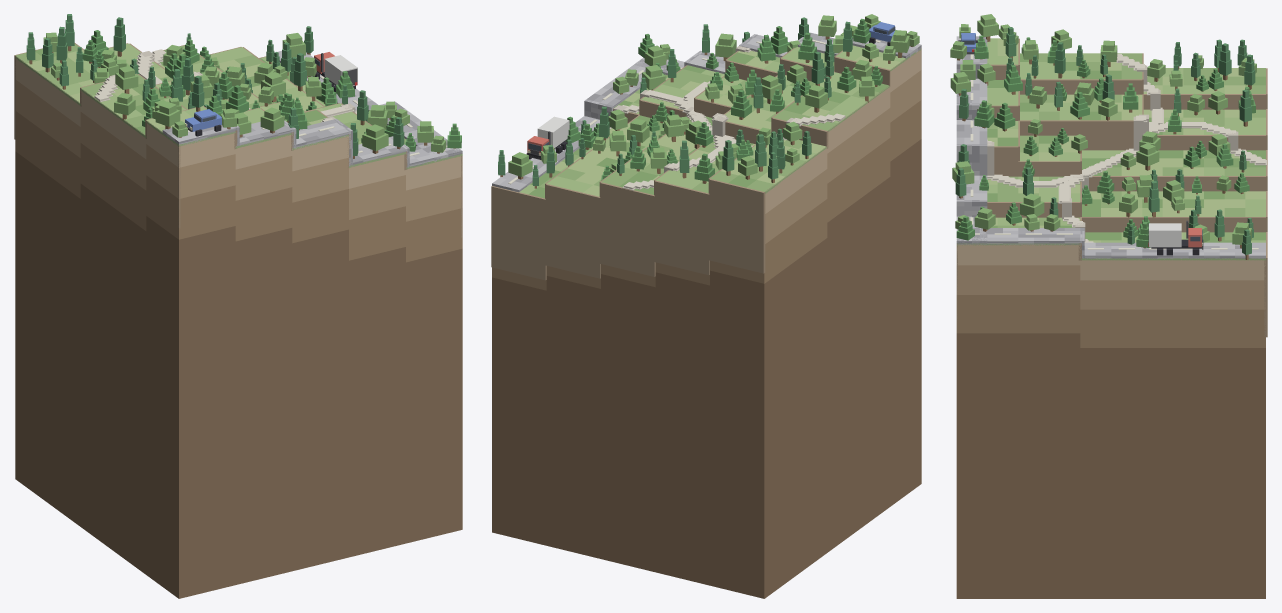
The model's file is block_1_permeable_15.glb.
The picture shows the model from 3 angles, left to right: view 1: azimuth 30°, elevation 25°; view 2: azimuth 150°, elevation 25°; view 3: azimuth 270°, elevation 25°; orthographic projection. The views are drawn at different scales.
Visible parts, largest first — view 1: Patch_UpperLeft_b02_PP, Ghats_UpperLeft_b02_PP, Roads_UpperLeft_b02_PP, ULCar_009_PP, ULCar_000_PP; view 2: Patch_UpperLeft_b02_PP, Ghats_UpperLeft_b02_PP, Roads_UpperLeft_b02_PP, ULCar_009_PP; view 3: Patch_UpperLeft_b02_PP, Ghats_UpperLeft_b02_PP, Roads_UpperLeft_b02_PP, ULCar_009_PP, RoadMarks_UpperLeft_b02_PP, ULG_T064_PP, ULG_T091_PP, ULG_T001_PP.
Part boxes in pixels (left/top/right/bottom): Patch_UpperLeft_b02_PP: left=15, top=58, right=462, bottom=598; Ghats_UpperLeft_b02_PP: left=14, top=43, right=462, bottom=237; Roads_UpperLeft_b02_PP: left=162, top=51, right=462, bottom=167; ULCar_009_PP: left=314, top=52, right=357, bottom=93; ULCar_000_PP: left=185, top=109, right=221, bottom=136; Patch_UpperLeft_b02_PP: left=492, top=50, right=921, bottom=598; Ghats_UpperLeft_b02_PP: left=491, top=45, right=921, bottom=280; Roads_UpperLeft_b02_PP: left=492, top=32, right=921, bottom=192; ULCar_009_PP: left=526, top=116, right=569, bottom=159; Patch_UpperLeft_b02_PP: left=956, top=244, right=1265, bottom=598; Ghats_UpperLeft_b02_PP: left=957, top=38, right=1267, bottom=337; Roads_UpperLeft_b02_PP: left=956, top=36, right=1265, bottom=259; ULCar_009_PP: left=1148, top=220, right=1203, bottom=255; RoadMarks_UpperLeft_b02_PP: left=970, top=54, right=1258, bottom=249; ULG_T064_PP: left=1136, top=143, right=1159, bottom=170; ULG_T091_PP: left=1020, top=193, right=1044, bottom=216; ULG_T001_PP: left=977, top=14, right=998, bottom=41.
Bounding box in the file's own units: 9.95 × 15.66 × 9.74.
